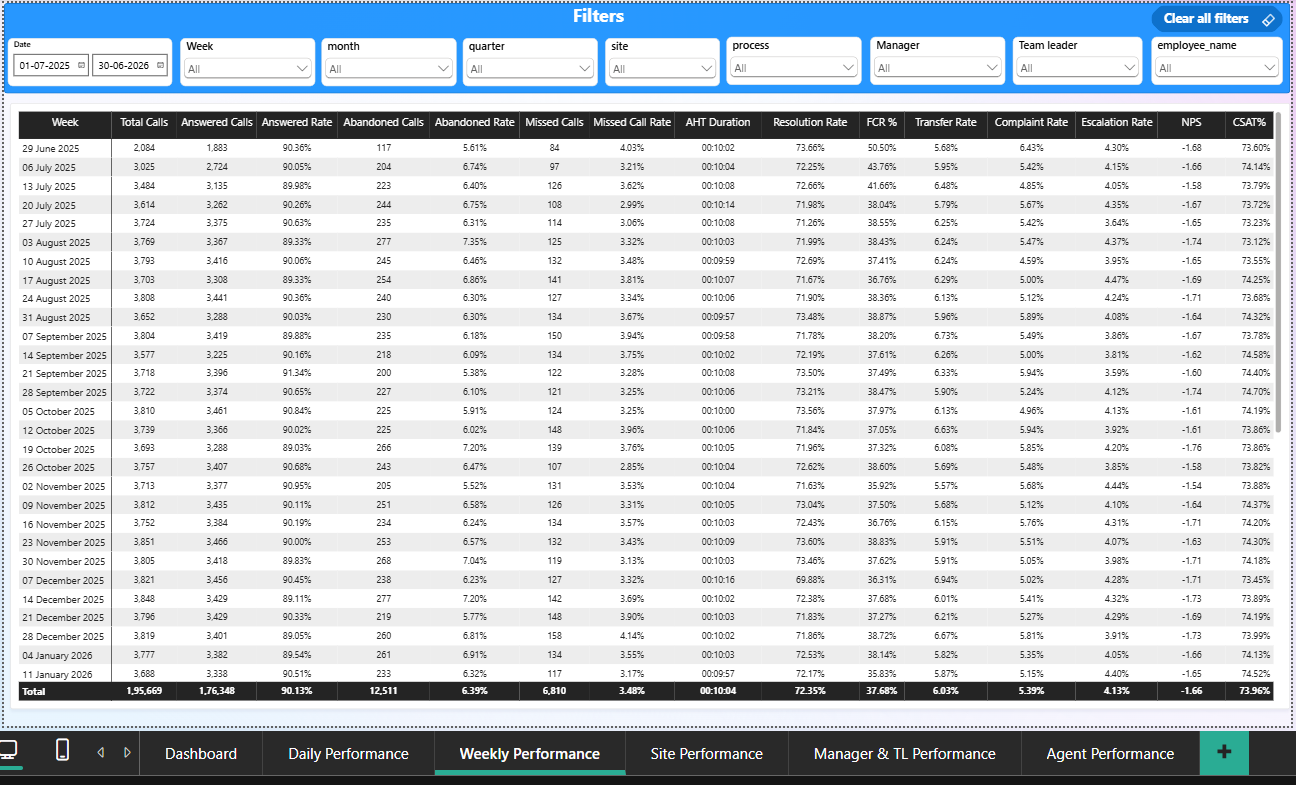

This screenshot's page, from the dashboard's own definition file:
{"tool":"powerbi","page":{"name":"Weekly Performance","canvas":[1920,1080],"ordinal":2},"visuals":[{"type":"shape","box":[0,0,1920,135],"z":0},{"type":"pivotTable","fields":{"Values":["fact_calls.Total Calls","fact_calls.Answered Calls","fact_calls.Answer Rate","fact_calls.Abandoned Calls","fact_calls.Abandoned Rate","fact_calls.Missed Calls","fact_calls.Missed Call Rate","fact_calls.AHT Duration","fact_calls.Resolution Rate","fact_calls.FCR %","fact_calls.Transfer Rate","fact_calls.Complaint Rate"],"Rows":["calendar.Week"]},"box":[9.5,150.2,1910.5,904.9],"z":1000},{"type":"slicer","fields":{"Values":["calendar.Week"]},"box":[262.3,51.3,201.5,72.2],"z":2000},{"type":"slicer","fields":{"Values":["calendar.Date"]},"box":[5.7,51.3,245.2,72.2],"z":3000},{"type":"slicer","fields":{"Values":["calendar.month_year"]},"box":[473.3,51.3,201.5,72.2],"z":4000},{"type":"slicer","fields":{"Values":["calendar.quarter"]},"box":[684.4,51.3,201.5,72.2],"z":5000},{"type":"slicer","fields":{"Values":["dim_employee.site"]},"box":[897.3,51.3,171.1,72.2],"z":6000},{"type":"slicer","fields":{"Values":["dim_employee.process"]},"box":[1077.9,51.3,201.5,72.2],"z":7000},{"type":"slicer","fields":{"Values":["dim_employee.manager_name"]},"box":[1292.7,51.3,201.5,72.2],"z":8000},{"type":"slicer","fields":{"Values":["dim_employee.team_leader_name"]},"box":[1505.6,51.3,193.9,72.2],"z":9000},{"type":"textbox","box":[849.7,0,127.4,43.7],"z":10000},{"type":"slicer","fields":{"Values":["dim_employee.employee_name"]},"box":[1712.8,51.3,195.8,72.2],"z":11000},{"type":"actionButton","box":[1712.8,3.8,195.8,39.9],"z":12000}]}

Visuals, with their boxes on the page's 1920x1080 design canvas (x1, y1, x2, y2). These are canvas units, not pixel positions in the 1296x785 screenshot, which may show the page scaled, cropped or inside an application window:
shape: Rect(0, 0, 1920, 135)
pivotTable - fact_calls.Total Calls x fact_calls.Answered Calls: Rect(10, 150, 1920, 1055)
slicer - calendar.Week: Rect(262, 51, 464, 124)
slicer - calendar.Date: Rect(6, 51, 251, 124)
slicer - calendar.month_year: Rect(473, 51, 675, 124)
slicer - calendar.quarter: Rect(684, 51, 886, 124)
slicer - dim_employee.site: Rect(897, 51, 1068, 124)
slicer - dim_employee.process: Rect(1078, 51, 1279, 124)
slicer - dim_employee.manager_name: Rect(1293, 51, 1494, 124)
slicer - dim_employee.team_leader_name: Rect(1506, 51, 1700, 124)
textbox: Rect(850, 0, 977, 44)
slicer - dim_employee.employee_name: Rect(1713, 51, 1909, 124)
actionButton: Rect(1713, 4, 1909, 44)
